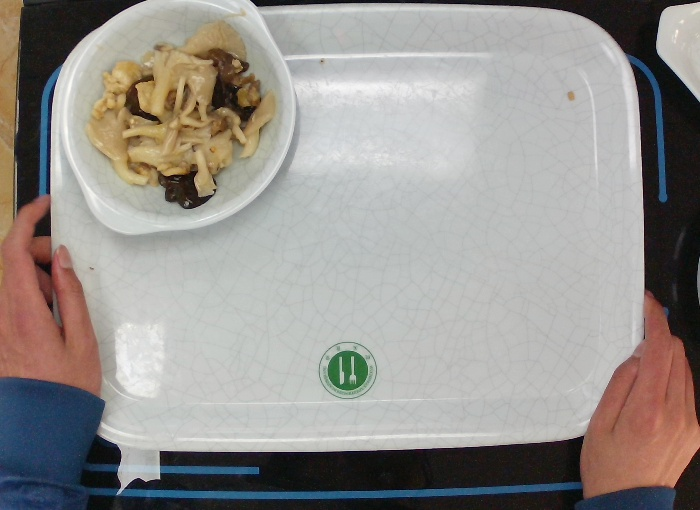JYsf-Shuang_Er_Wan: (57, 1, 299, 237)
